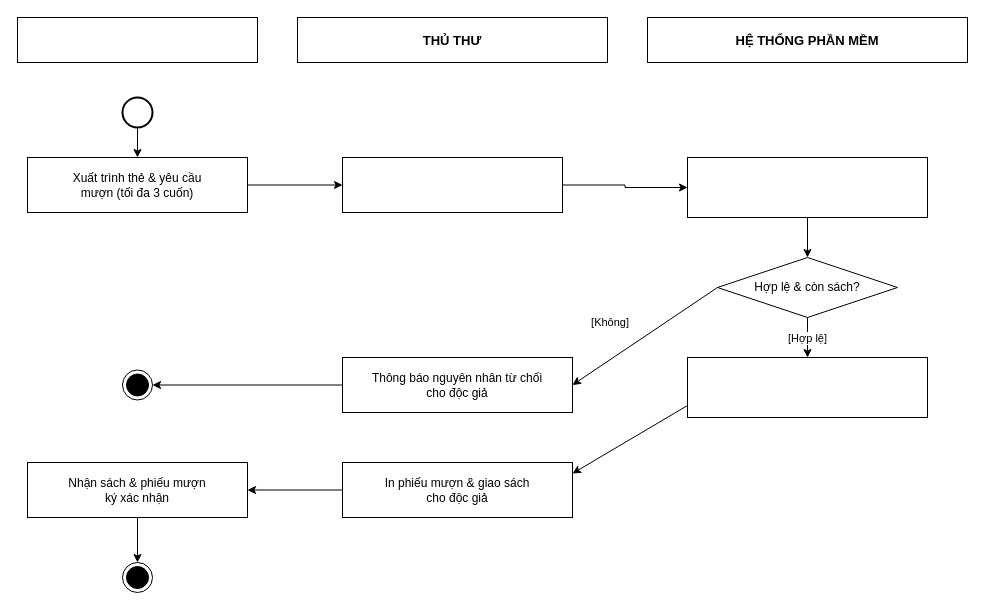
Some shapes in this 985 by 610 pixel diagram are drawn without their labels. Each missing label, with the centre of its shape:
"Kiểm tra hạn thẻ, lệ phí, sách quá hạn & số lượng tồn" belongs at point (807, 187).
"Nhập thông tin thẻ & chọn các đầu sách mượn" belongs at point (452, 184).
"Tạo phiếu mượn & chi tiết giảm tồn kho trong transaction" belongs at point (807, 387).
"ĐỘC GIẢ" belongs at point (137, 39).
